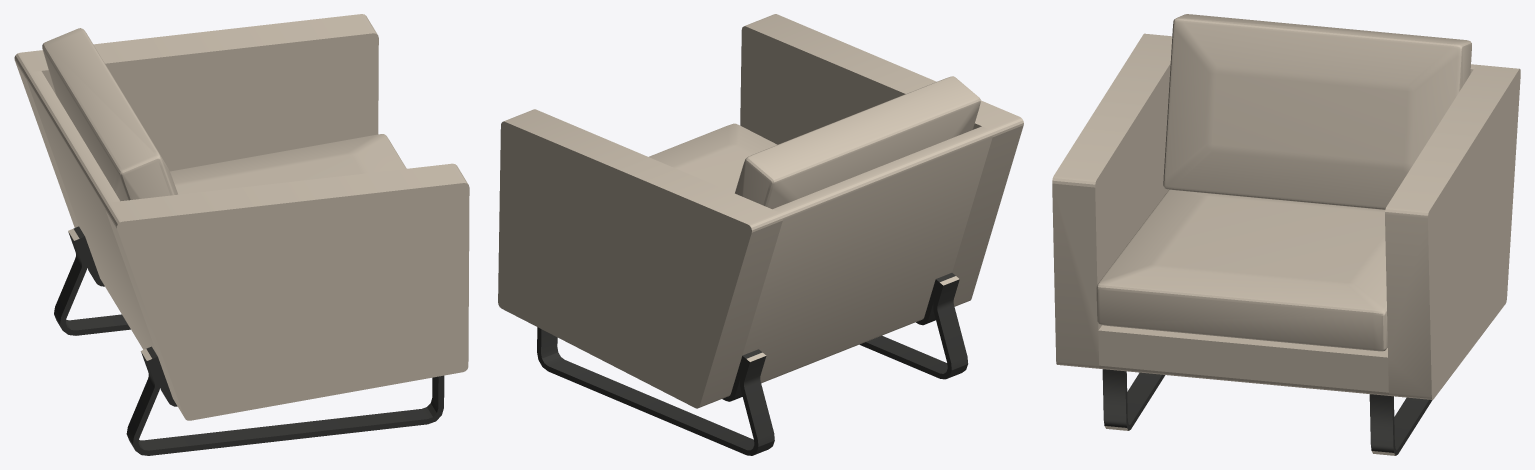
The model's file is Akademik_fotel 2.fbx.
3 renders of one model, left to right at view 1: azimuth 30°, elevation 25°; view 2: azimuth 150°, elevation 25°; view 3: azimuth 270°, elevation 25°, orthographic. The views are drawn at different scales.
Visible parts, largest first — view 1: AM_0_1, Group1, Group2; view 2: AM_0_1, Group2, Group1; view 3: AM_0_1, Group1, Group2.
Boxes of the visible parts, x1=… form: AM_0_1: x1=14, y1=14, x2=469, y2=420; Group1: x1=126, y1=346, x2=444, y2=455; Group2: x1=54, y1=226, x2=130, y2=335; AM_0_1: x1=498, y1=14, x2=1023, y2=408; Group2: x1=537, y1=327, x2=774, y2=455; Group1: x1=859, y1=273, x2=968, y2=379; AM_0_1: x1=1052, y1=14, x2=1520, y2=399; Group1: x1=1102, y1=369, x2=1165, y2=430; Group2: x1=1369, y1=394, x2=1432, y2=455.
Size of the model in its own units: 0.9569 by 0.7101 by 0.9997.
